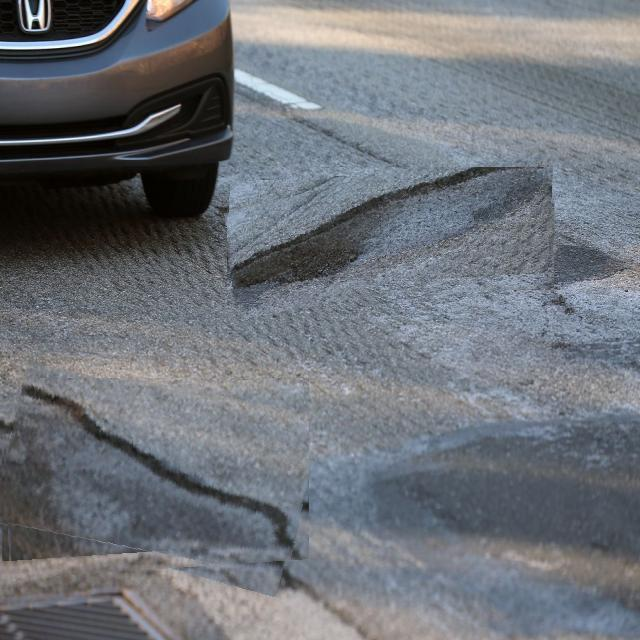Pothole: (0, 378, 309, 579), (227, 167, 558, 305)
